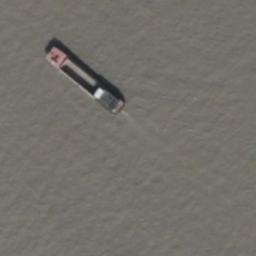boat: (42, 45, 125, 115)
